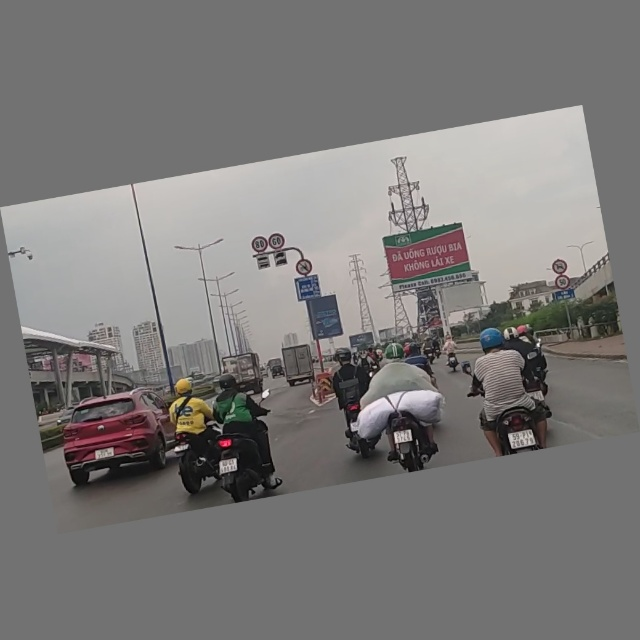P.103a: (551, 256, 569, 276)
P.104: (294, 258, 313, 278)
P.127*50: (555, 274, 571, 292)
P.127*60: (269, 233, 287, 251)
P.127*80: (251, 236, 268, 254)
